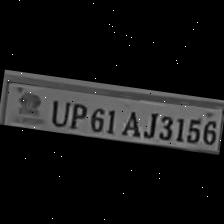1: (101, 104, 121, 134), (169, 109, 186, 142)
3: (154, 110, 175, 141)
5: (178, 112, 202, 144)
6: (86, 102, 110, 132), (200, 114, 219, 144)
A: (119, 104, 145, 138)
J: (140, 107, 158, 137)
P: (64, 98, 88, 130)
U: (44, 94, 70, 128)
